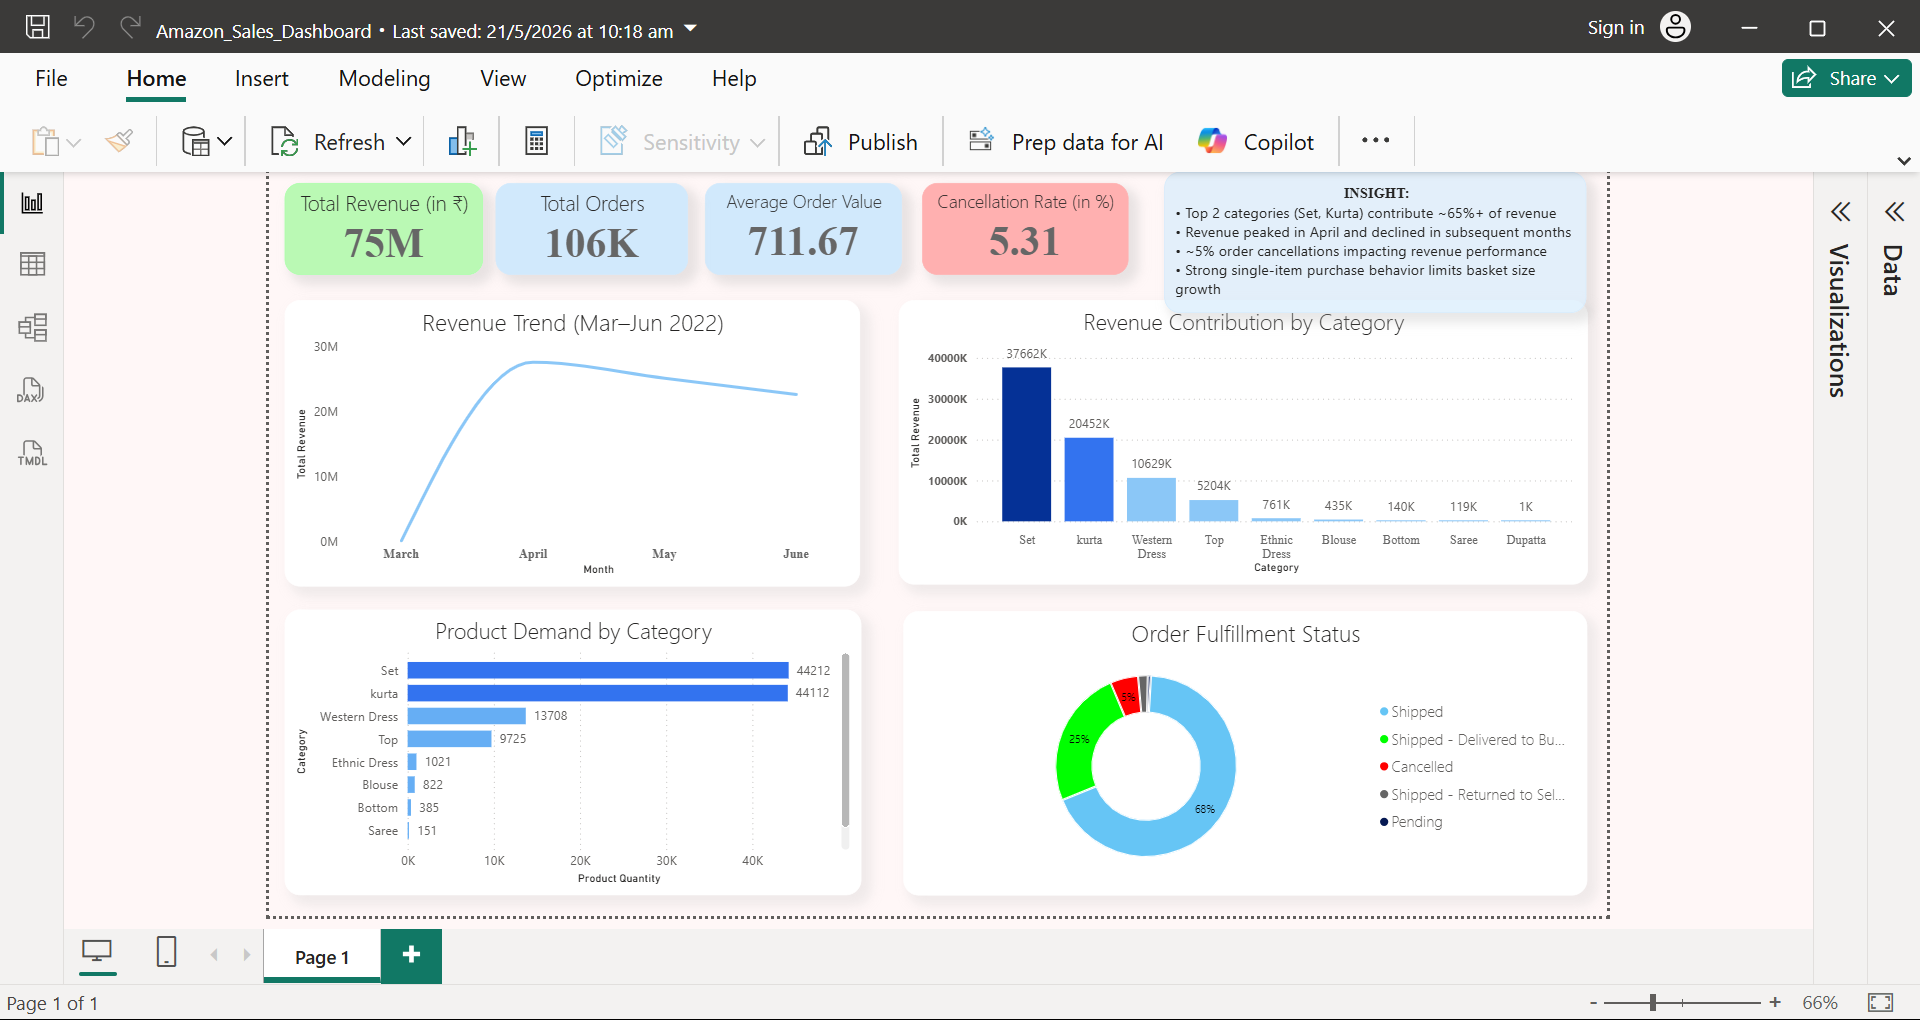

What the dashboard file says about the page in this screenshot:
{"tool":"powerbi","page":{"name":"Page 1","canvas":[1295,720],"ordinal":0},"visuals":[{"type":"card","title":"Average Order Value","fields":{"Values":["_Measures.AOV"]},"box":[421.8,10.6,190.5,89.2],"z":0},{"type":"card","title":"Total Revenue (in ₹)","fields":{"Values":["_Measures.Total Revenue"]},"box":[15.1,10.6,192,89.2],"z":1000},{"type":"card","title":"Total Orders","fields":{"Values":["_Measures.Total Orders"]},"box":[219.2,10.6,186,89.2],"z":2000},{"type":"card","title":"Cancellation Rate (in %)","fields":{"Values":["_Measures.Cancellation Rate"]},"box":[632,10.6,199.6,89.2],"z":3000},{"type":"lineChart","title":"Revenue Trend (Mar–Jun 2022)","fields":{"Category":["cleaned_amazon_sales.date.Variation.Date Hierarchy.Month"],"Y":["_Measures.Total Revenue"]},"box":[15.6,123.6,557.1,277],"z":4000},{"type":"columnChart","title":"Revenue Contribution by Category","fields":{"Category":["cleaned_amazon_sales.category"],"Y":["_Measures.Total Revenue"]},"box":[608.8,123.6,666.7,275.4],"z":5000},{"type":"donutChart","title":"Order Fulfillment Status","fields":{"Category":["cleaned_amazon_sales.status"],"Y":["_Measures.Total Orders"]},"box":[613.5,424.1,662,275.4],"z":6000},{"type":"clusteredBarChart","title":"Product Demand by Category","fields":{"Category":["cleaned_amazon_sales.category"],"Y":["Sum(cleaned_amazon_sales.qty)"]},"box":[15.1,423.3,557.9,276.7],"z":7000},{"type":"textbox","box":[867,0,408.4,136.1],"z":8000}]}

Visuals, with their boxes on the page's 1295x720 design canvas (x1, y1, x2, y2). These are canvas units, not pixel positions in the 1920x1020 screenshot, which may show the page scaled, cropped or inside an application window:
"Average Order Value" card: rect(422, 11, 612, 100)
"Total Revenue (in ₹)" card: rect(15, 11, 207, 100)
"Total Orders" card: rect(219, 11, 405, 100)
"Cancellation Rate (in %)" card: rect(632, 11, 832, 100)
"Revenue Trend (Mar–Jun 2022)" lineChart: rect(16, 124, 573, 401)
"Revenue Contribution by Category" columnChart: rect(609, 124, 1276, 399)
"Order Fulfillment Status" donutChart: rect(614, 424, 1276, 700)
"Product Demand by Category" clusteredBarChart: rect(15, 423, 573, 700)
textbox: rect(867, 0, 1275, 136)
